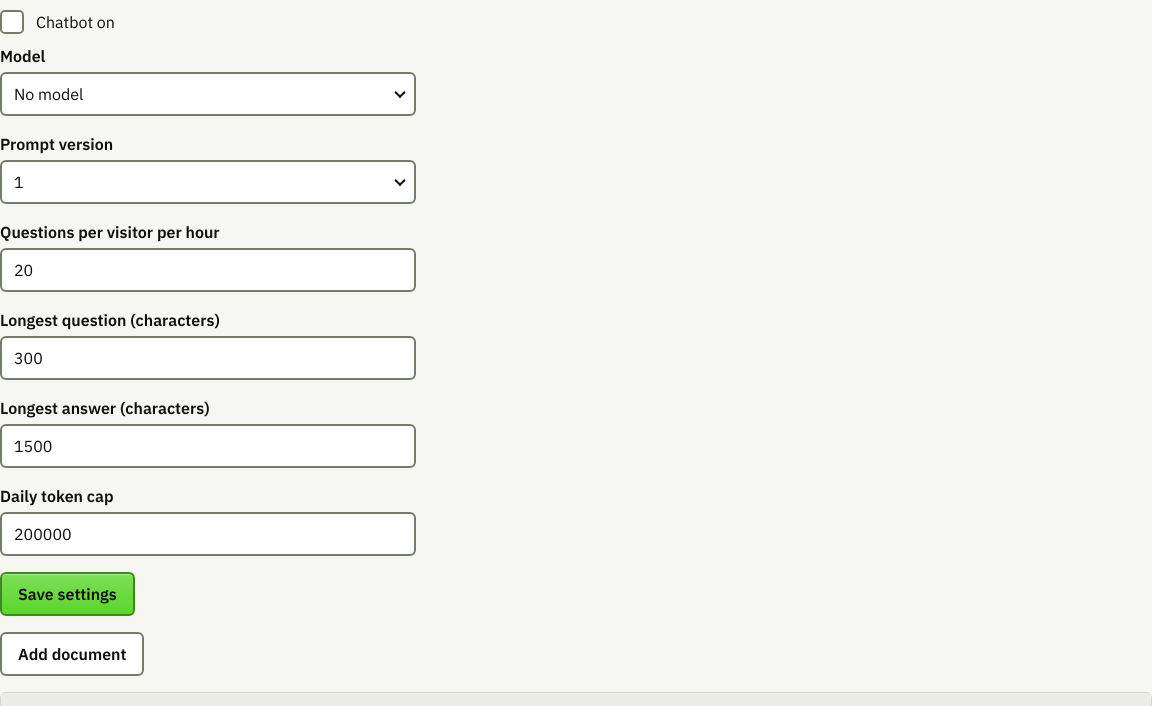
Scenario: chatbot admin page › shows the server's reason when it cannot be switched on
The width and height of the screenshot is (1152, 706).
Click the checkbox labelled "Chatbot on" at (12, 22), box [0,10,24,34]
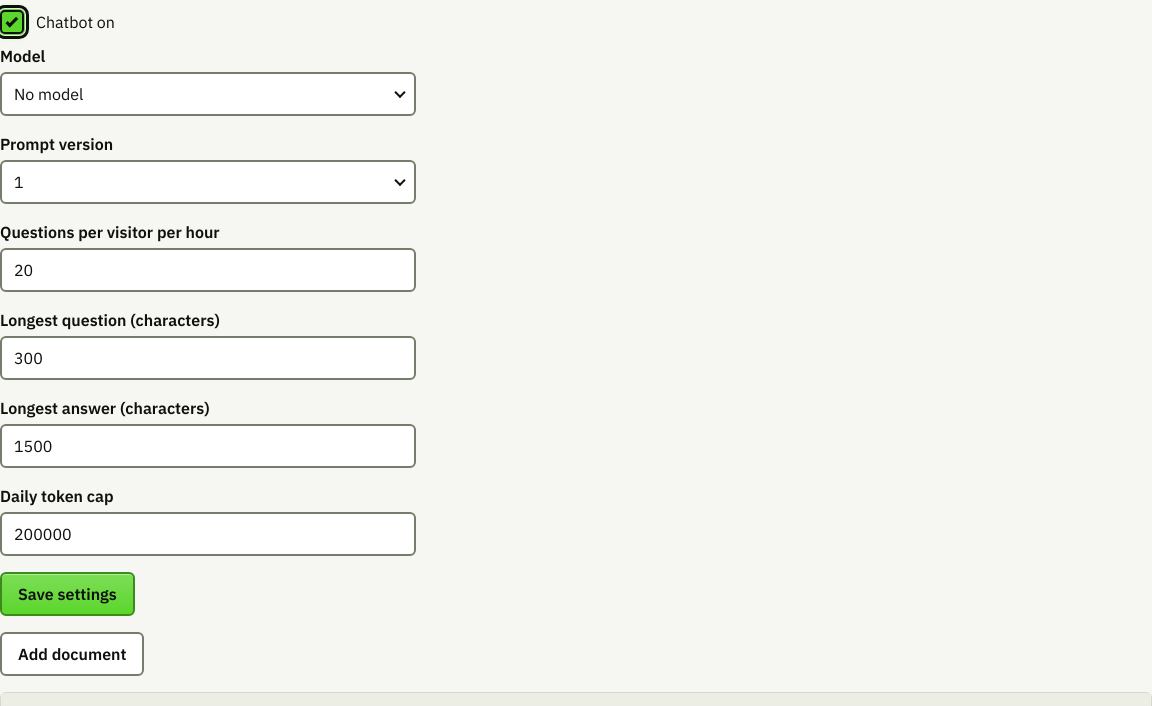
Click the button "Save settings" at (67, 594), box [0,572,135,616]
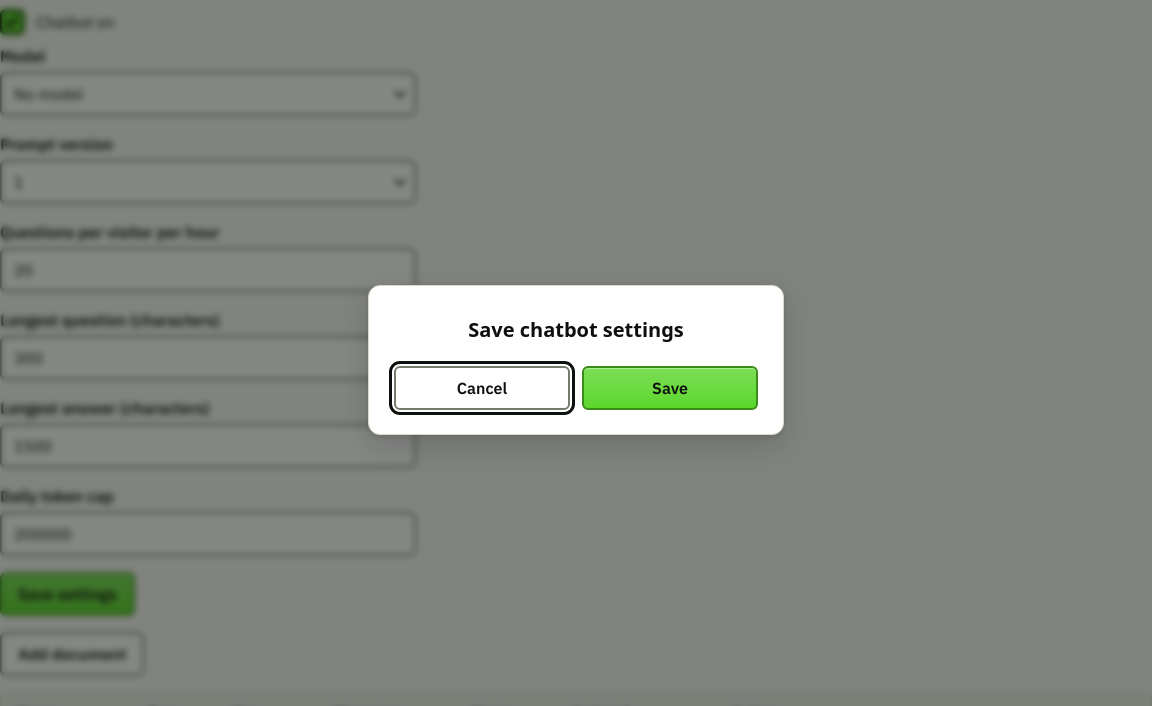
Click the button "Save" at (670, 388), box [582,366,758,410]
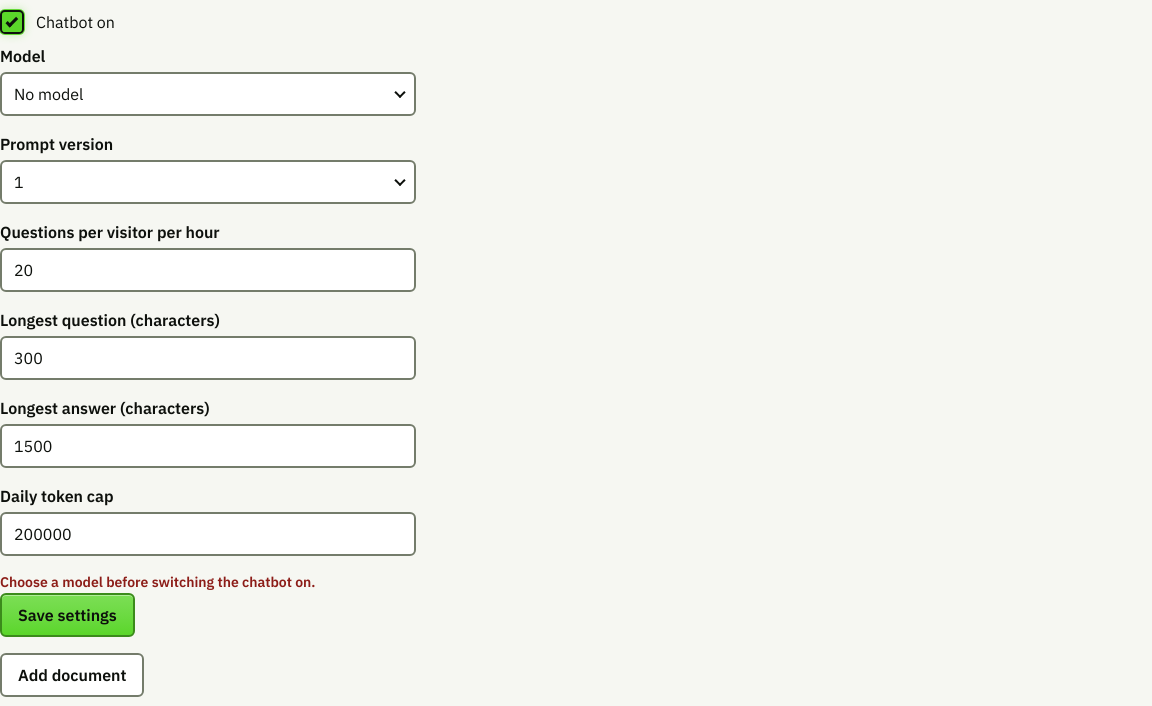
Expected: the text "Choose a model before switching the chatbot on." is shown, [0,573,316,591]
